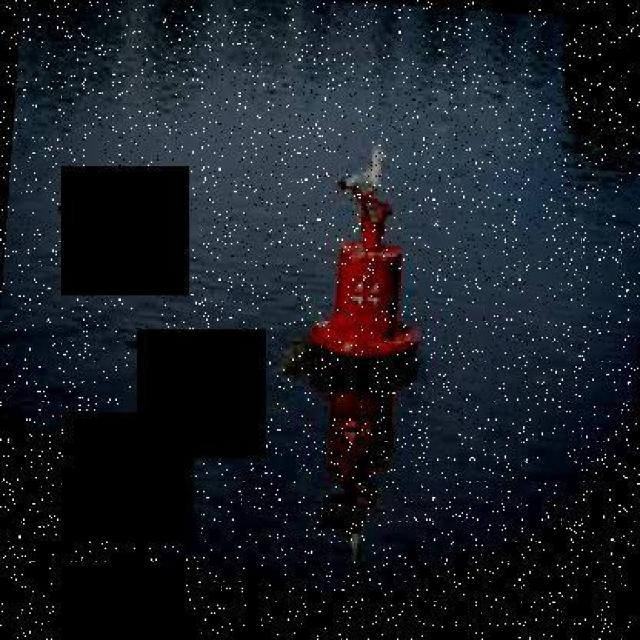Red Buoy: (314, 202, 422, 359)
